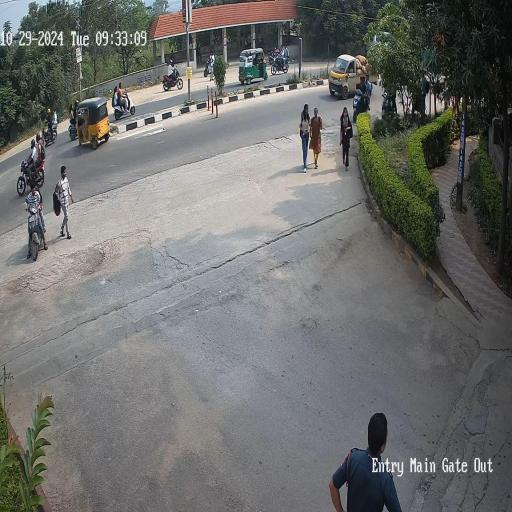helmet: (164, 54, 180, 80), (28, 135, 41, 155)
no helmet: (27, 185, 42, 208), (112, 80, 130, 95)
triple riding: (355, 71, 378, 117)
